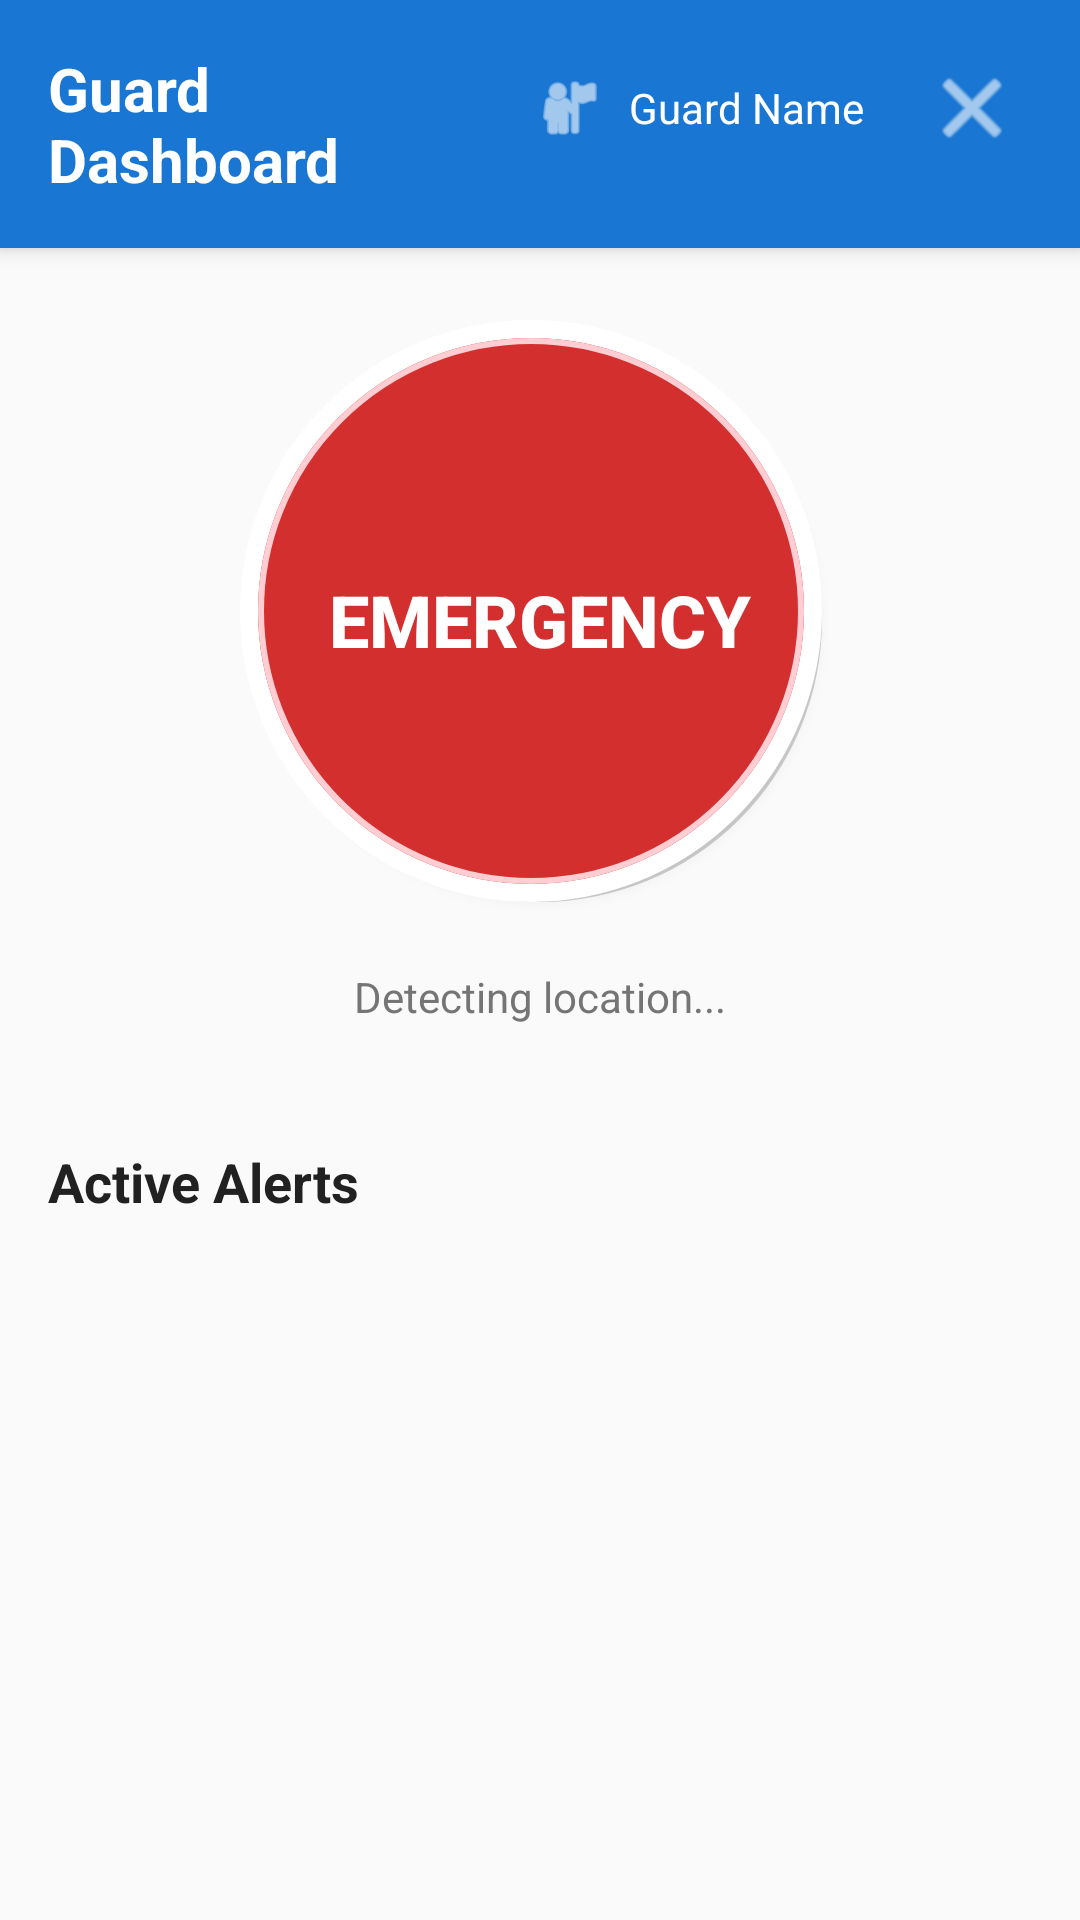

Screen size 1080 x 1920. Icon name, then its center in pixels as [x,y]:
myplaces: [570,108]
